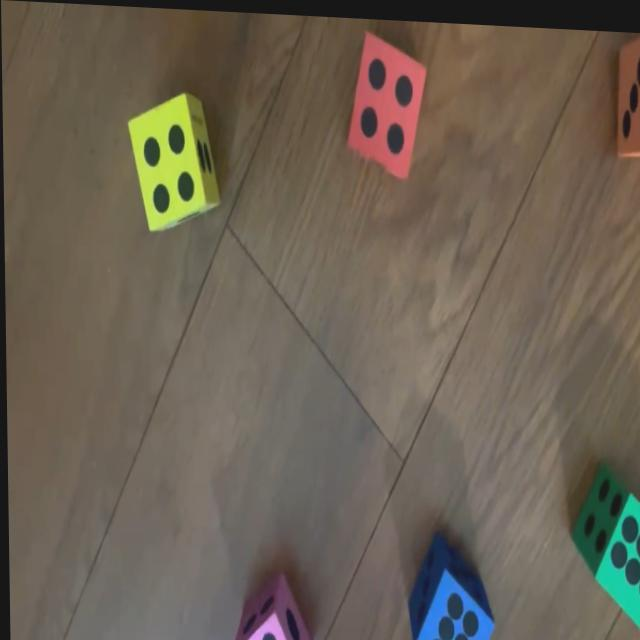blue_block: (407, 529, 492, 640)
red_block: (345, 30, 426, 177)
